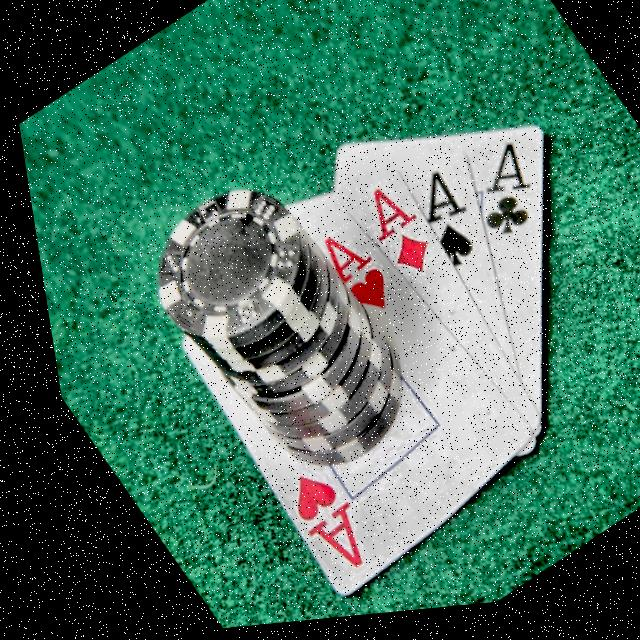Chip: (96, 138, 432, 515)
